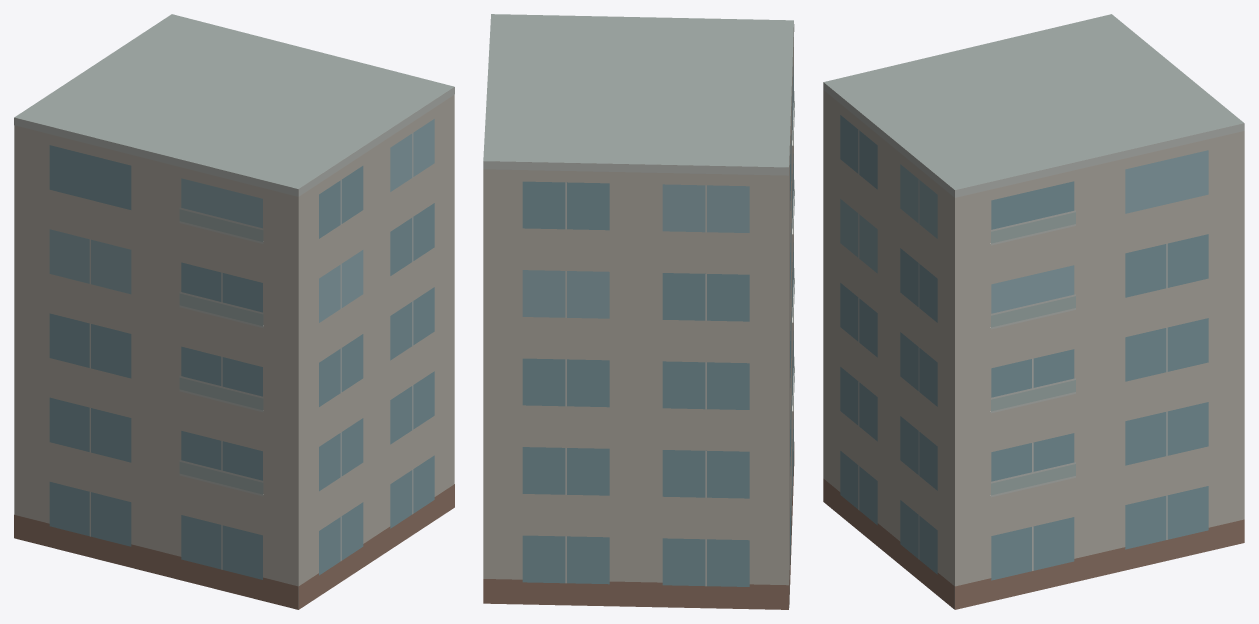
Rendered from survey-upis-32841640.glb.
3 views of the same model, side by side, from view 1: azimuth 30°, elevation 25°; view 2: azimuth 150°, elevation 25°; view 3: azimuth 270°, elevation 25° (orthographic). The views are drawn at different scales.
Visible parts, largest first — view 1: survey-upis-32841640.tmp; view 2: survey-upis-32841640.tmp; view 3: survey-upis-32841640.tmp.
Part boxes in pixels (left/top/right/bottom): survey-upis-32841640.tmp: left=14, top=14, right=454, bottom=609; survey-upis-32841640.tmp: left=483, top=14, right=794, bottom=609; survey-upis-32841640.tmp: left=823, top=14, right=1244, bottom=609.
Bounding box in the file's own units: 11.99 × 13.3 × 12.11.
